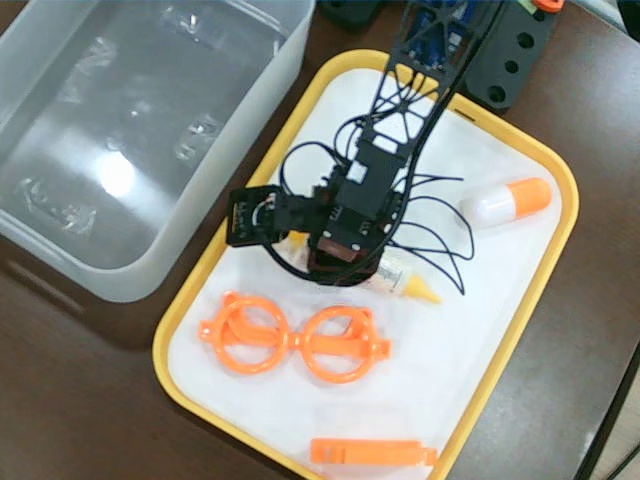pill: (458, 177, 553, 227)
syringe: (261, 215, 444, 309)
